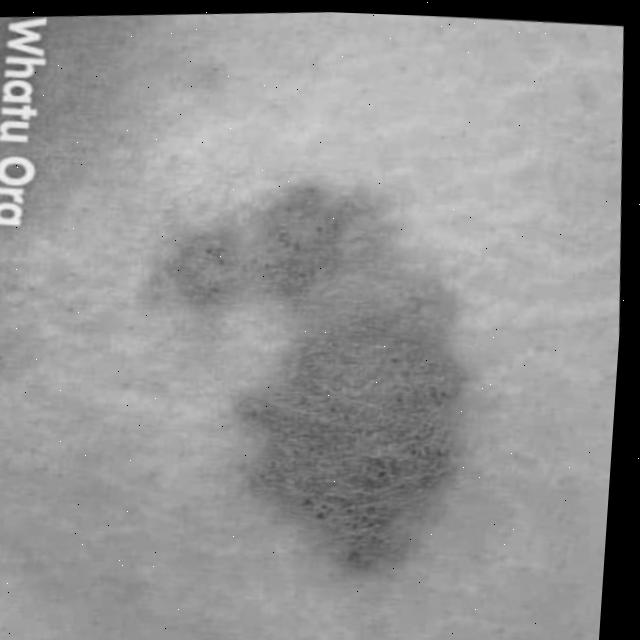Eczema: (164, 182, 443, 546)
